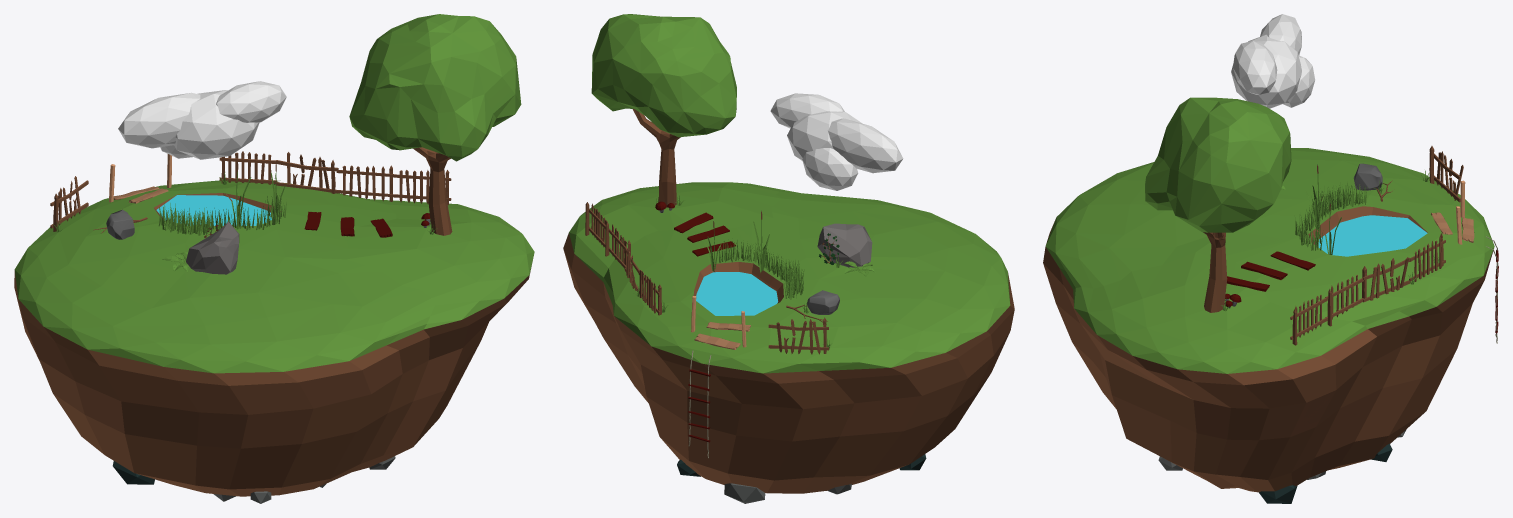
Rendered from flyingIsland.glb.
3 renders of one model, left to right at view 1: azimuth 30°, elevation 25°; view 2: azimuth 150°, elevation 25°; view 3: azimuth 270°, elevation 25°, orthographic. The views are drawn at different scales.
Parts seen in each view (by area): view 1: FlyingIsland.001, FlyingIsland, Tree.001, Cloud_3, Tree, Cloud_3.001, Cylinder.009, Stone_3, PT_Modular_Fence_Wood_01, PT_Modular_Fence_Wood_02, PT_Modular_Fence_Wood_03.002, PT_Modular_Fence_Wood_01.001 (+5 smaller); view 2: FlyingIsland, FlyingIsland.001, Tree, Cloud_3, Cylinder.009, Stone_3, Cloud_3.001, PT_Modular_Fence_Wood_03.001, PT_Generic_Rock_01_LOD0, PT_Modular_Fence_Wood_01, GroundStone.001, PT_Modular_Fence_Wood_01.001; view 3: FlyingIsland, FlyingIsland.001, Tree, Tree.001, Cloud_3, Cylinder.009, Cloud_3.001, PT_Modular_Fence_Wood_03, PT_Modular_Fence_Wood_03.003, PT_Modular_Fence_Wood_02, PT_Modular_Fence_Wood_01.001, Cylinder (+3 smaller).
Part boxes in pixels (x1,y1,x2,y2): FlyingIsland.001: (14, 180, 531, 496); FlyingIsland: (14, 210, 534, 490); Tree.001: (352, 16, 521, 234); Cloud_3: (118, 81, 286, 158); Tree: (349, 14, 501, 235); Cloud_3.001: (118, 90, 286, 159); Cylinder.009: (156, 195, 271, 225); Stone_3: (186, 223, 239, 274); PT_Modular_Fence_Wood_01: (219, 151, 277, 184); PT_Modular_Fence_Wood_02: (336, 165, 394, 201); PT_Modular_Fence_Wood_03.002: (277, 152, 338, 193); PT_Modular_Fence_Wood_01.001: (393, 170, 450, 205); FlyingIsland: (563, 182, 1014, 493); FlyingIsland.001: (575, 227, 1013, 484); Tree: (591, 14, 736, 207); Cloud_3: (770, 93, 902, 185); Cylinder.009: (696, 272, 778, 315); Stone_3: (817, 223, 870, 267); Cloud_3.001: (776, 116, 903, 190); PT_Modular_Fence_Wood_03.001: (768, 317, 828, 354); PT_Generic_Rock_01_LOD0: (807, 290, 839, 314); PT_Modular_Fence_Wood_01: (638, 270, 661, 315); GroundStone.001: (724, 483, 765, 503); PT_Modular_Fence_Wood_01.001: (585, 202, 607, 246); FlyingIsland: (1043, 162, 1493, 492); FlyingIsland.001: (1043, 148, 1494, 491); Tree: (1155, 97, 1291, 312); Tree.001: (1145, 98, 1256, 311); Cloud_3: (1231, 14, 1315, 104); Cylinder.009: (1318, 215, 1427, 256); Cloud_3.001: (1231, 63, 1314, 108); PT_Modular_Fence_Wood_03: (1362, 257, 1410, 302); PT_Modular_Fence_Wood_03.003: (1429, 146, 1463, 201); PT_Modular_Fence_Wood_02: (1325, 275, 1363, 326); PT_Modular_Fence_Wood_01.001: (1290, 295, 1327, 344); Cylinder: (1319, 227, 1356, 256).
Size of the model in its own units: 23.52 by 21.55 by 20.32.
